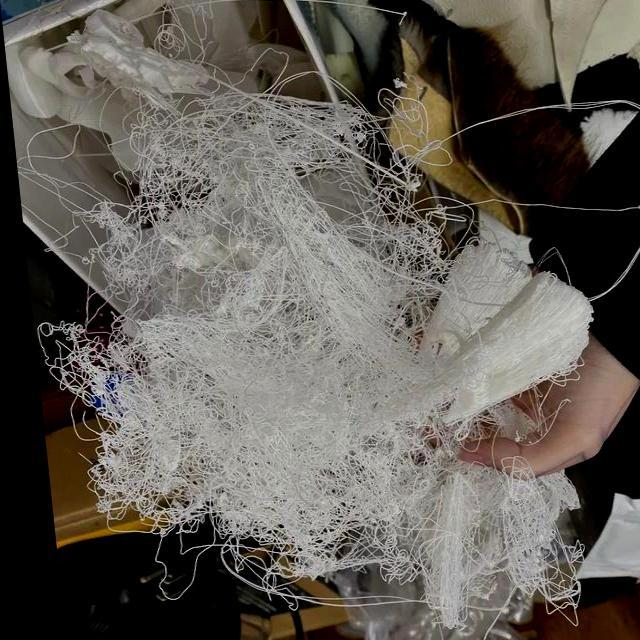spaghetti: (283, 449, 440, 582), (133, 318, 284, 438), (280, 335, 433, 443), (435, 477, 567, 594), (81, 407, 201, 531), (191, 447, 293, 575), (224, 92, 374, 172), (130, 104, 237, 214), (264, 231, 388, 324), (29, 321, 140, 408), (85, 204, 173, 298), (367, 96, 441, 194), (189, 225, 264, 313)
